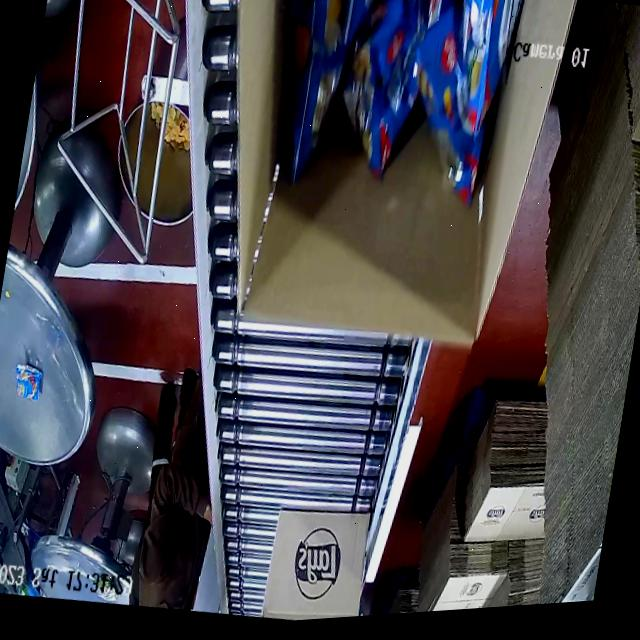PAPRIKA: (260, 0, 530, 264)
